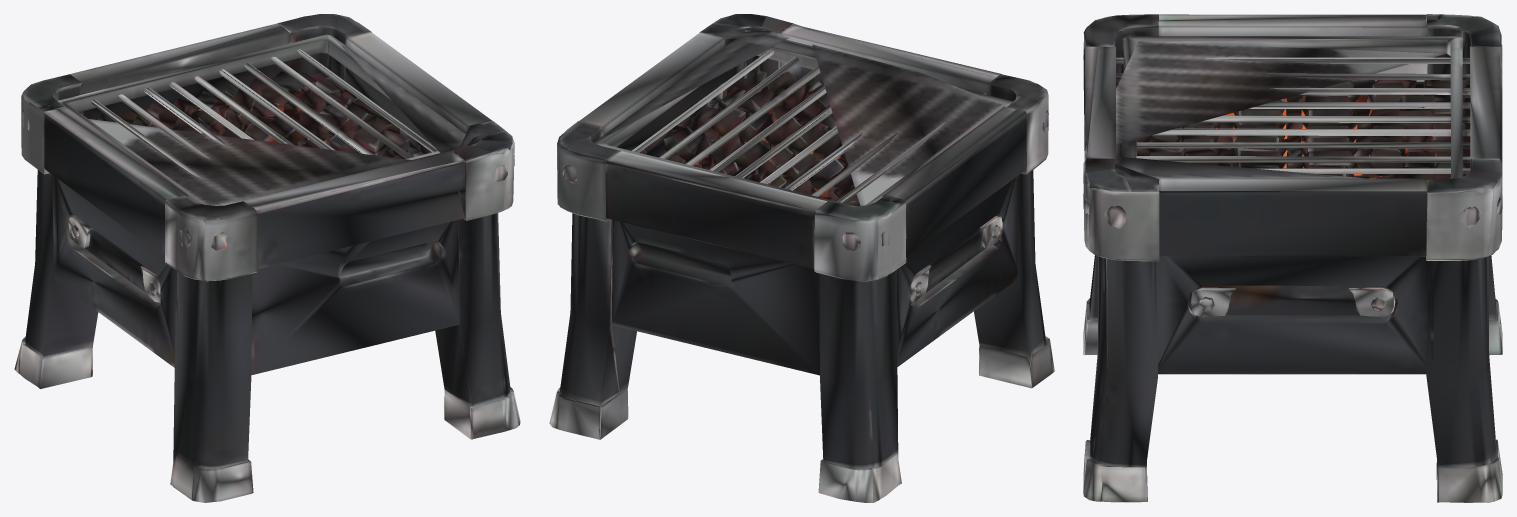
The model's file is grill.glb.
The picture shows the model from 3 angles, left to right: view 1: azimuth 30°, elevation 25°; view 2: azimuth 150°, elevation 25°; view 3: azimuth 270°, elevation 25°; orthographic projection. The views are drawn at different scales.
Parts seen in each view (by area): view 1: Mesh_0; view 2: Mesh_0; view 3: Mesh_0.
Part boxes in pixels (box(x1,y1,x2,y2)): Mesh_0: box(14, 14, 520, 502); Mesh_0: box(549, 14, 1054, 502); Mesh_0: box(1083, 14, 1502, 502).
Bounding box in the file's own units: 1.09 × 0.9001 × 1.09.
1 material, 1 textured.
